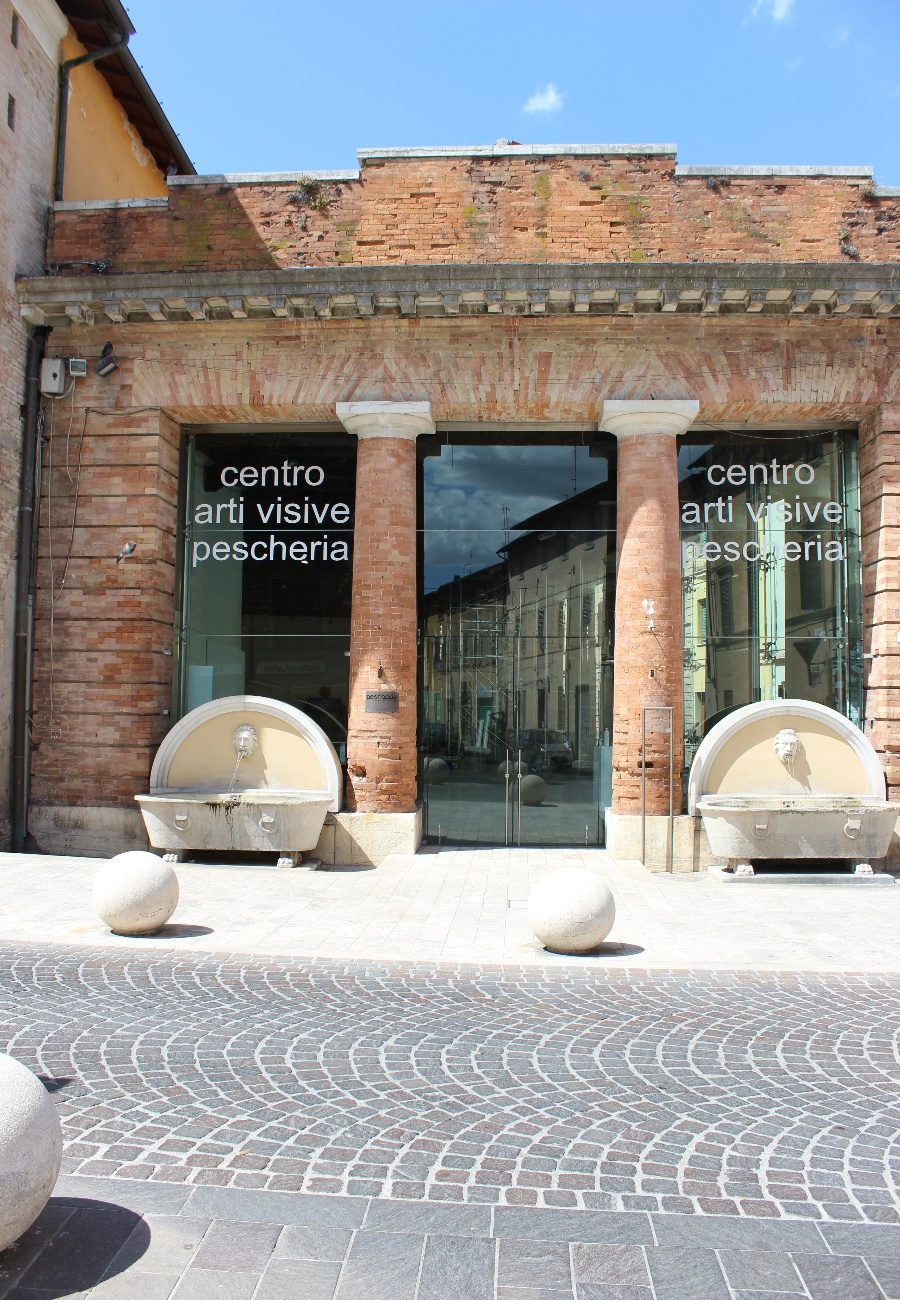Centro Arti Visive Pescheria: (31, 142, 900, 886)
